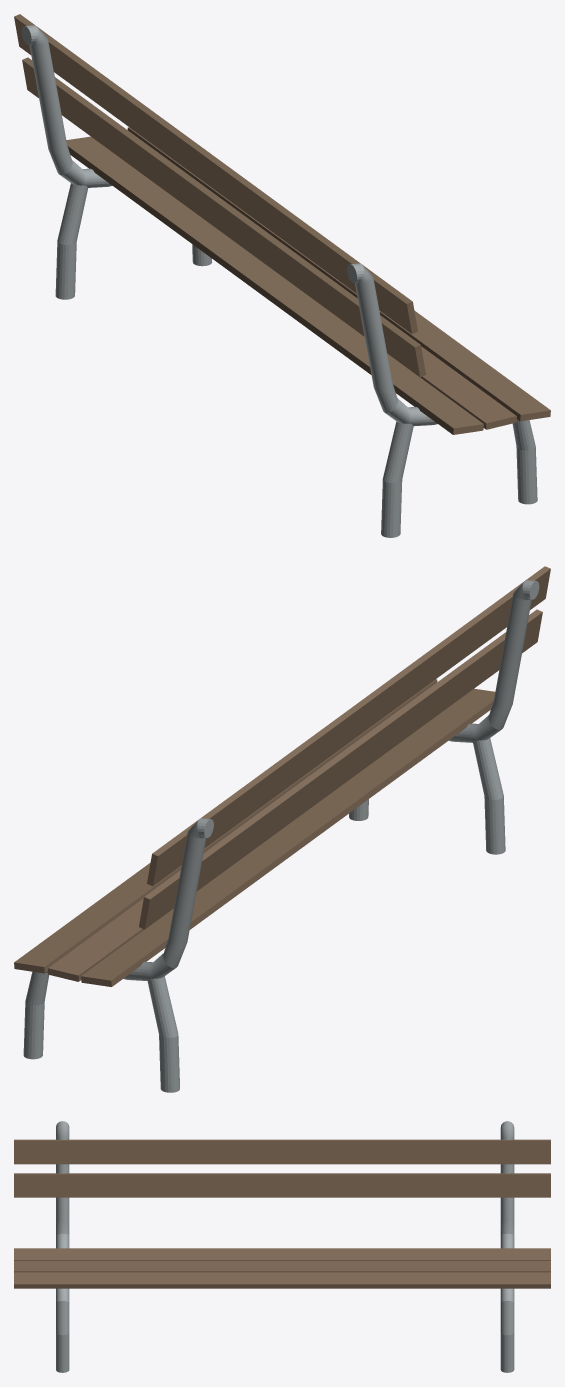
The model's file is ParkBench.fbx.
The picture shows the model from 3 angles, top to bottom: view 1: azimuth 30°, elevation 25°; view 2: azimuth 150°, elevation 25°; view 3: azimuth 270°, elevation 25°; orthographic projection. The views are drawn at different scales.
Visible parts, largest first — view 1: group3_pasted__pCube1; view 2: group3_pasted__pCube1; view 3: group3_pasted__pCube1.
Boxes of the visible parts, <box> form: group3_pasted__pCube1: <box>14,14,550,537</box>; group3_pasted__pCube1: <box>14,566,550,1092</box>; group3_pasted__pCube1: <box>14,1121,550,1372</box>.
Size of the model in its own units: 6.06 by 8.75 by 22.38.
